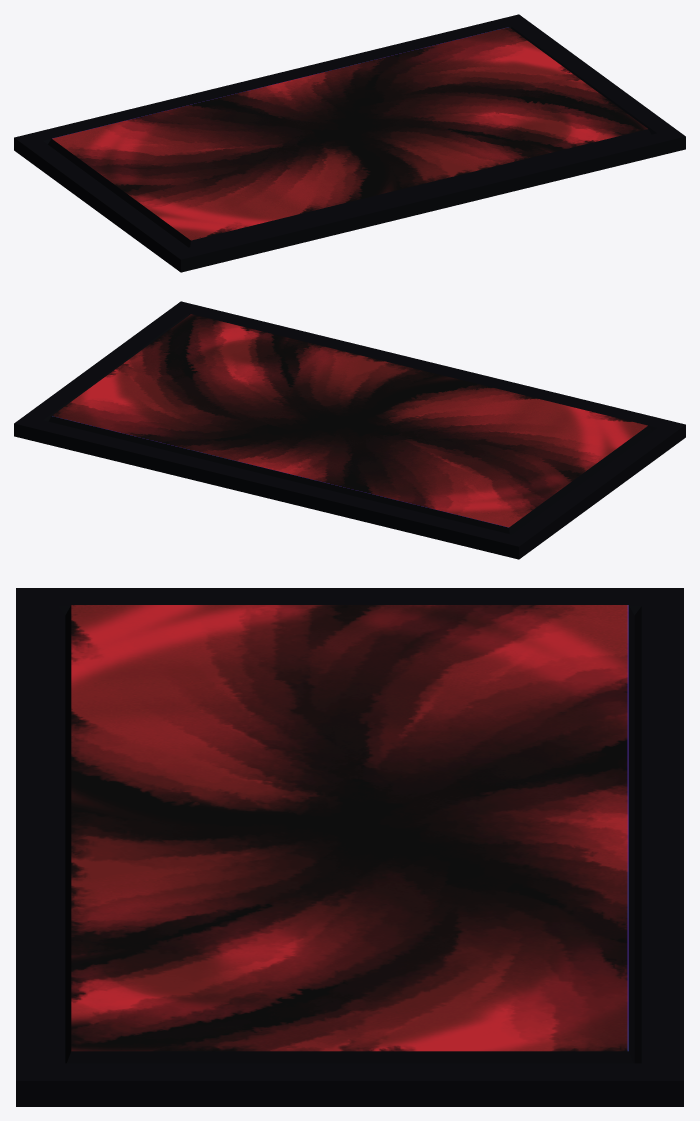
The model's file is Tablero_KittyCats.fbx.
3 renders of one model, top to bottom at view 1: azimuth 30°, elevation 25°; view 2: azimuth 150°, elevation 25°; view 3: azimuth 270°, elevation 25°, orthographic. The views are drawn at different scales.
Visible parts, largest first — view 1: TABLERO VIRUS; view 2: TABLERO VIRUS; view 3: TABLERO VIRUS.
Part boxes in pixels (<box>): TABLERO VIRUS: <box>14,14,685,272</box>; TABLERO VIRUS: <box>14,301,685,559</box>; TABLERO VIRUS: <box>16,588,683,1106</box>.
Bounding box in the file's own units: 365 × 11.12 × 209.
